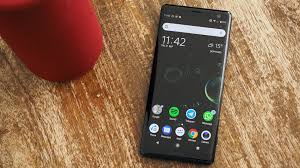sony: (141, 2, 235, 168)
